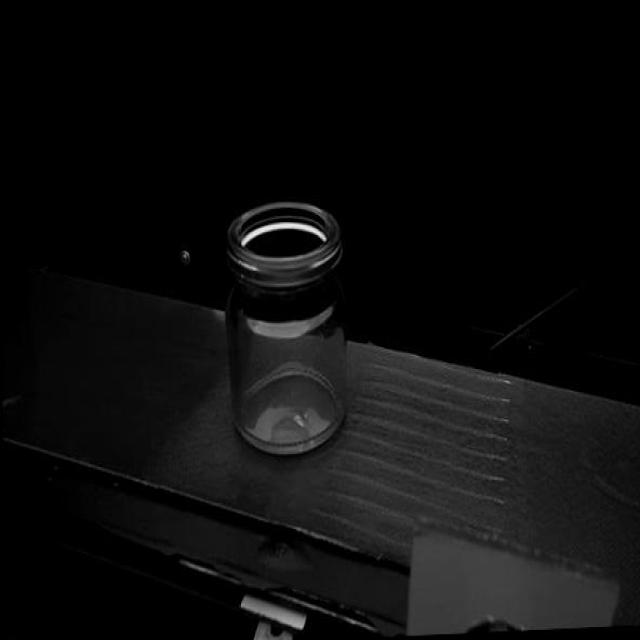defect: (238, 307, 242, 319)
glass: (221, 197, 349, 460)
